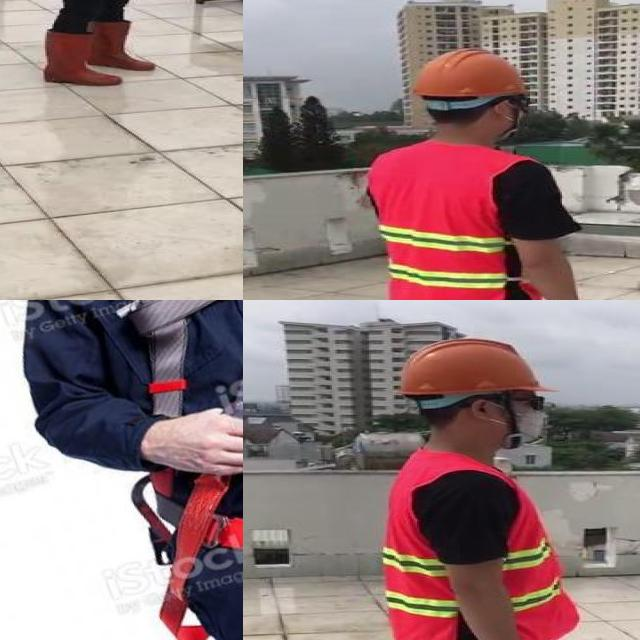Harness: (161, 474, 243, 640), (118, 300, 221, 418)
boots: (40, 31, 120, 85), (86, 12, 154, 70)
face_mask: (493, 394, 560, 444)
head_helmet: (392, 334, 550, 398), (407, 46, 529, 98)
person: (331, 44, 596, 300), (381, 331, 587, 640), (30, 0, 172, 85)
vest: (385, 449, 577, 640), (368, 143, 522, 300)
